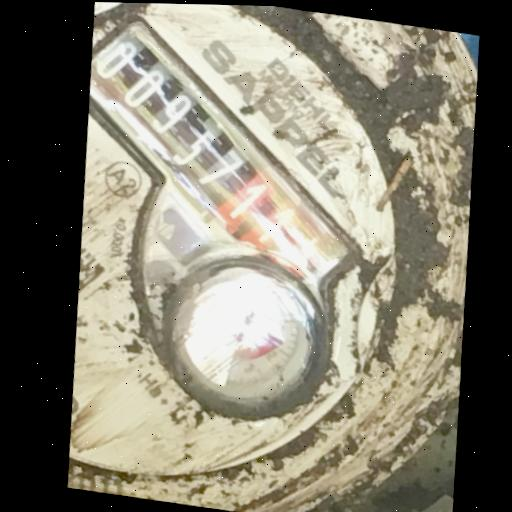0: (97, 46, 186, 132), (84, 21, 158, 103)
1: (230, 188, 317, 276), (204, 163, 290, 248)
5: (151, 104, 241, 193)
7: (179, 135, 266, 221)
9: (125, 75, 214, 163)
border_water_meter_number: (58, 2, 398, 337)
